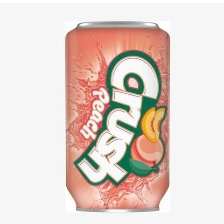can: (61, 18, 173, 215)
